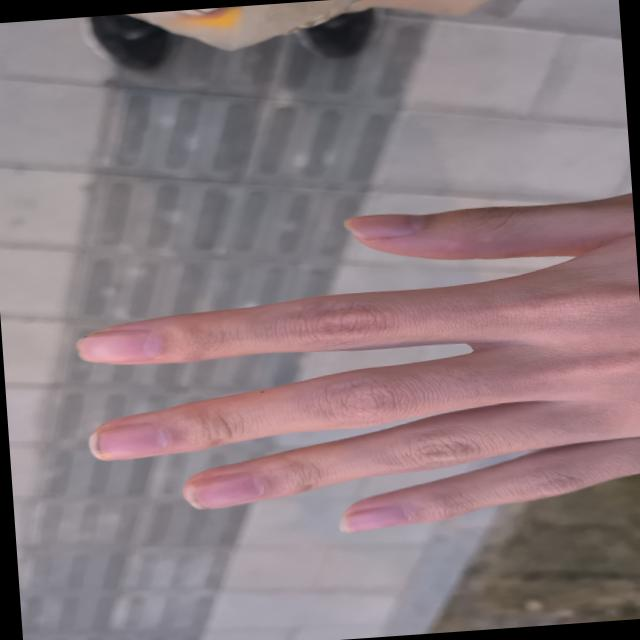Nail: (87, 422, 166, 459), (187, 471, 262, 508), (75, 329, 159, 362), (343, 213, 423, 239), (338, 506, 410, 531)
